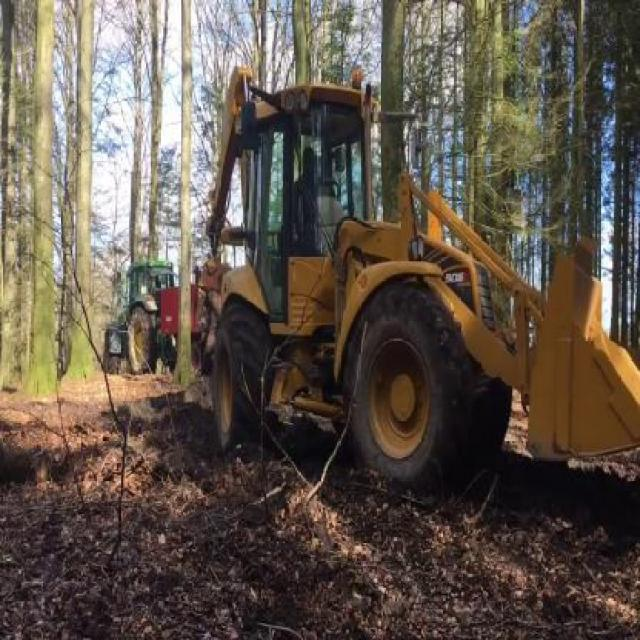Dump Truck: (103, 258, 200, 374)
